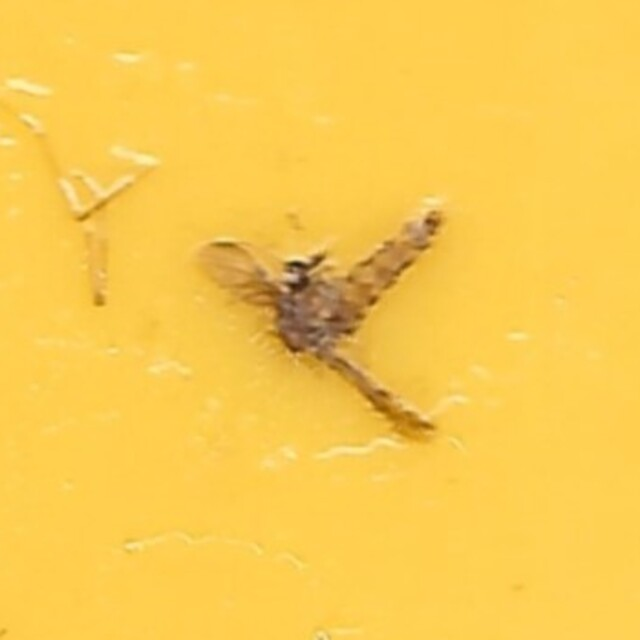Nematocera: (183, 190, 457, 450)
